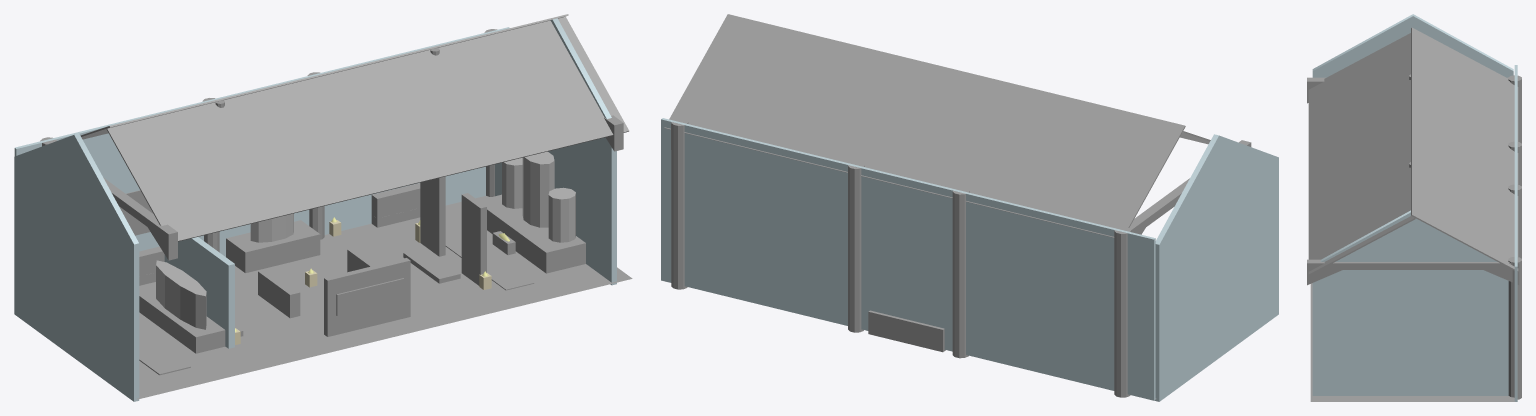
Rendered from museum-renaissancemesh(V3).fbx.
3 renders of one model, left to right at view 1: azimuth 30°, elevation 25°; view 2: azimuth 150°, elevation 25°; view 3: azimuth 270°, elevation 25°, orthographic. The views are drawn at different scales.
Visible parts, largest first — view 1: pCube54, pCube56, pPlane1, pCube5, pCube12, pCube35, pCube34, pCube55, pCube3, pCylinder7, pCube11, pCylinder10 (+15 smaller); view 2: pCube12, pCube53, pCube56, pCylinder5, pCylinder2, pCylinder3, pCylinder4, pCube3, pillarScaffold1; view 3: pCube5, pCube53, pCube54, pCube56, pillarScaffold2, pCylinder3, pPlane1, pCube12, pCylinder4, pCylinder2, pCylinder5.
Part boxes in pixels (x1,y1,x2,y2): pCube54: [106, 17, 629, 241]; pCube56: [14, 133, 139, 401]; pPlane1: [137, 196, 632, 399]; pCube5: [495, 18, 616, 285]; pCube12: [14, 27, 509, 256]; pCube35: [324, 258, 410, 336]; pCube34: [164, 237, 234, 348]; pCube55: [478, 194, 585, 273]; pCube3: [226, 220, 320, 273]; pCylinder7: [156, 260, 206, 329]; pCube11: [139, 289, 225, 353]; pCylinder10: [522, 151, 554, 227]; pCube12: [661, 118, 1155, 400]; pCube53: [664, 14, 1185, 237]; pCube56: [1154, 134, 1278, 401]; pCylinder5: [952, 187, 969, 358]; pCylinder2: [1114, 227, 1131, 397]; pCylinder3: [671, 119, 688, 289]; pCylinder4: [848, 162, 864, 332]; pCube3: [868, 310, 945, 352]; pillarScaffold1: [1129, 140, 1251, 234]; pCube5: [1312, 210, 1508, 395]; pCube53: [1411, 27, 1518, 271]; pCube54: [1308, 33, 1415, 275]; pCube56: [1312, 14, 1513, 77]; pillarScaffold2: [1307, 259, 1519, 285]; pCylinder3: [1508, 257, 1521, 399]; pPlane1: [1310, 283, 1515, 401]; pCube12: [1514, 65, 1517, 401]; pCylinder4: [1508, 184, 1521, 258]; pCylinder2: [1508, 75, 1521, 143]; pCylinder5: [1508, 141, 1521, 186].
Bounding box in the file's own units: 64.36 × 27.74 × 28.75.
